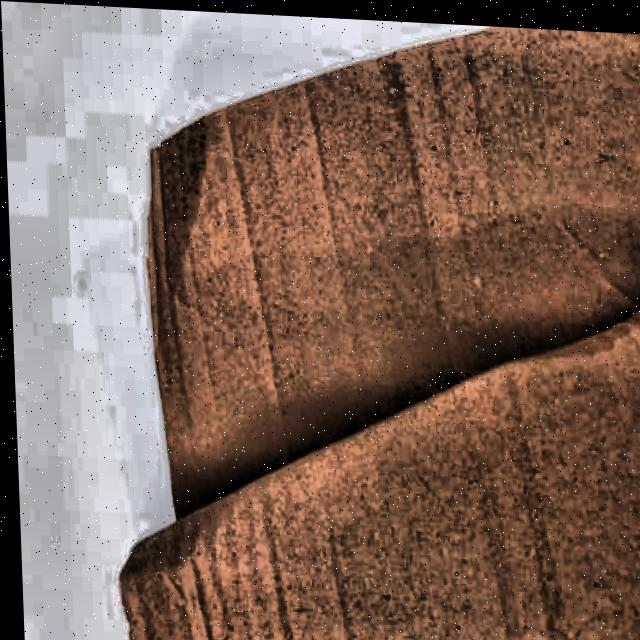cardboard: (95, 5, 640, 640)
